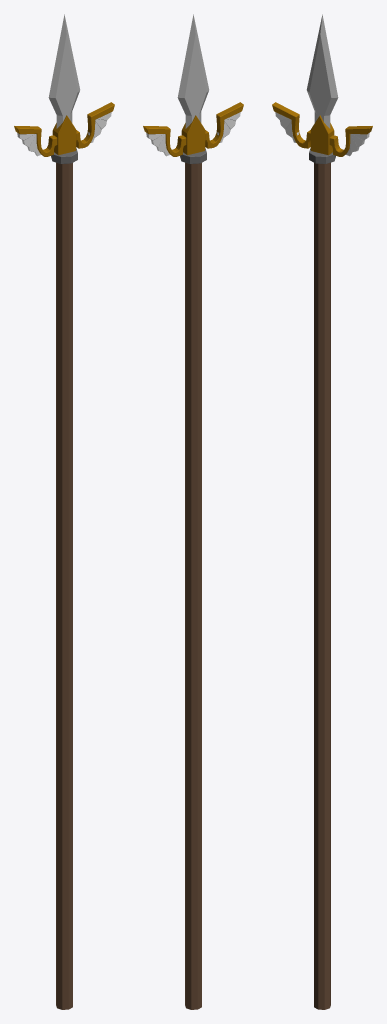
Rendered from Spear_3.fbx.
3 renders of one model, left to right at view 1: azimuth 30°, elevation 25°; view 2: azimuth 210°, elevation 25°; view 3: azimuth 330°, elevation 25°, orthographic.
Parts seen in each view (by area): view 1: pCylinder10, pCube22, pCube20, pCube30, pCube47, pCube46; view 2: pCylinder10, pCube22, pCube20, pCube47, pCube30, pCube29; view 3: pCylinder10, pCube22, pCube20, pCube47, pCube30, pCube29.
Part boxes in pixels (x1,y1,x2,y2): pCylinder10: [51, 148, 77, 1009]; pCube22: [48, 14, 80, 128]; pCube20: [52, 115, 76, 155]; pCube30: [76, 102, 114, 148]; pCube47: [14, 126, 57, 156]; pCube46: [17, 133, 41, 156]; pCylinder10: [180, 148, 206, 1009]; pCube22: [177, 14, 209, 128]; pCube20: [181, 115, 205, 155]; pCube47: [205, 102, 243, 148]; pCube30: [143, 126, 186, 156]; pCube29: [146, 133, 170, 156]; pCylinder10: [309, 148, 335, 1009]; pCube22: [306, 14, 338, 128]; pCube20: [310, 115, 334, 155]; pCube47: [272, 102, 310, 148]; pCube30: [329, 126, 372, 156]; pCube29: [345, 133, 369, 156].
Size of the model in its own units: 1.08 by 10.48 by 0.2679.
